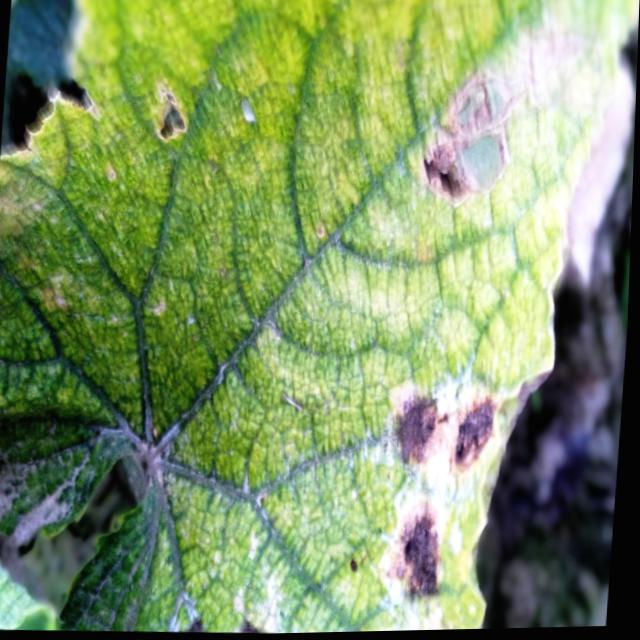Anthracnose: (422, 72, 521, 210), (147, 80, 198, 152)
